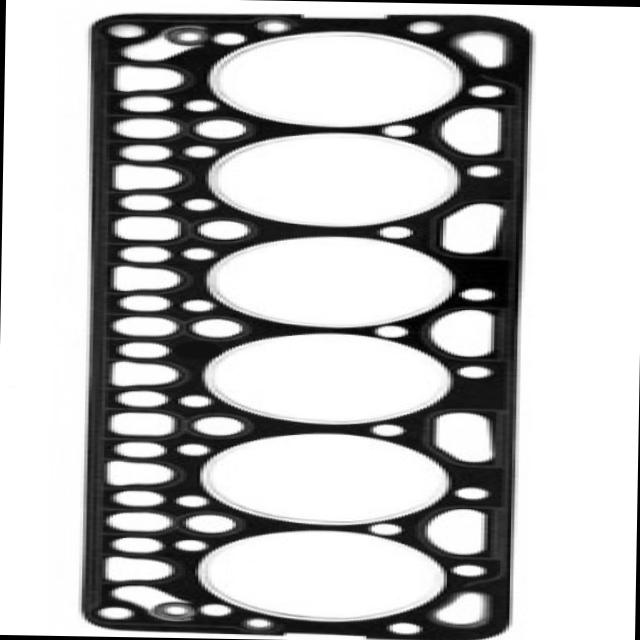missing hole: (176, 330, 228, 360)
